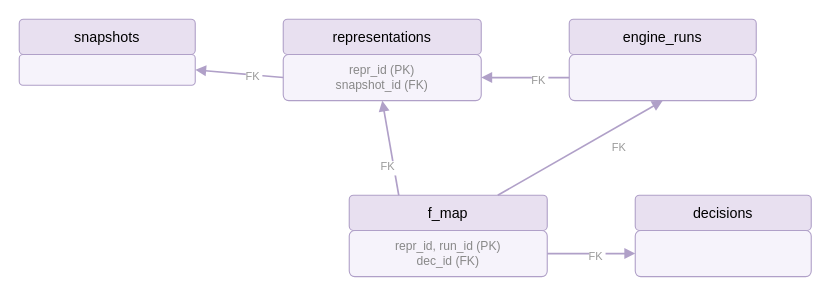
This 831x296 diagram has some shape labels left out. Each missing label, with the box of its shape:
dec_id (PK) policy_id: (634, 229, 811, 277)
run_id (PK) repr_id (FK): (568, 53, 756, 101)
snap_id (PK): (18, 53, 195, 85)
